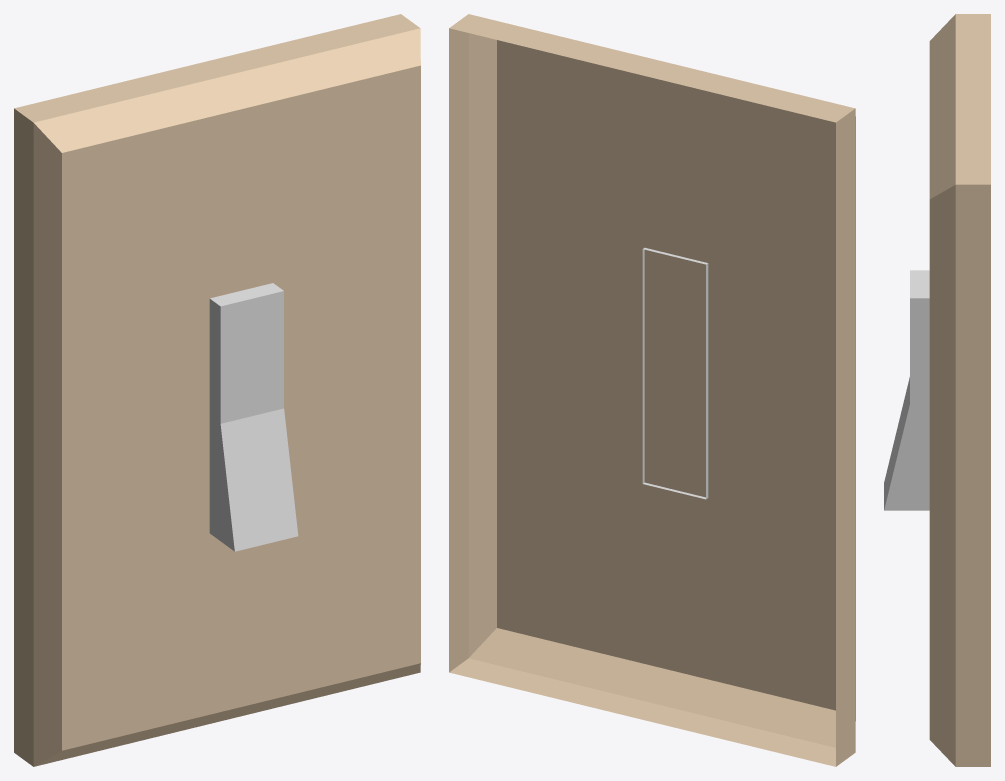
The model's file is Interruptor.fbx.
The picture shows the model from 3 angles, left to right: view 1: azimuth 30°, elevation 25°; view 2: azimuth 150°, elevation 25°; view 3: azimuth 270°, elevation 25°; orthographic projection. The views are drawn at different scales.
Visible parts, largest first — view 1: Cubo.012; view 2: Cubo.012; view 3: Cubo.012.
Part boxes in pixels (x1,y1,x2,y2): Cubo.012: (14, 14, 420, 766); Cubo.012: (449, 14, 855, 766); Cubo.012: (884, 14, 990, 766).
Bounding box in the file's own units: 31.32 × 49.83 × 8.28.
